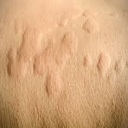Hives: (8, 21, 119, 91)
